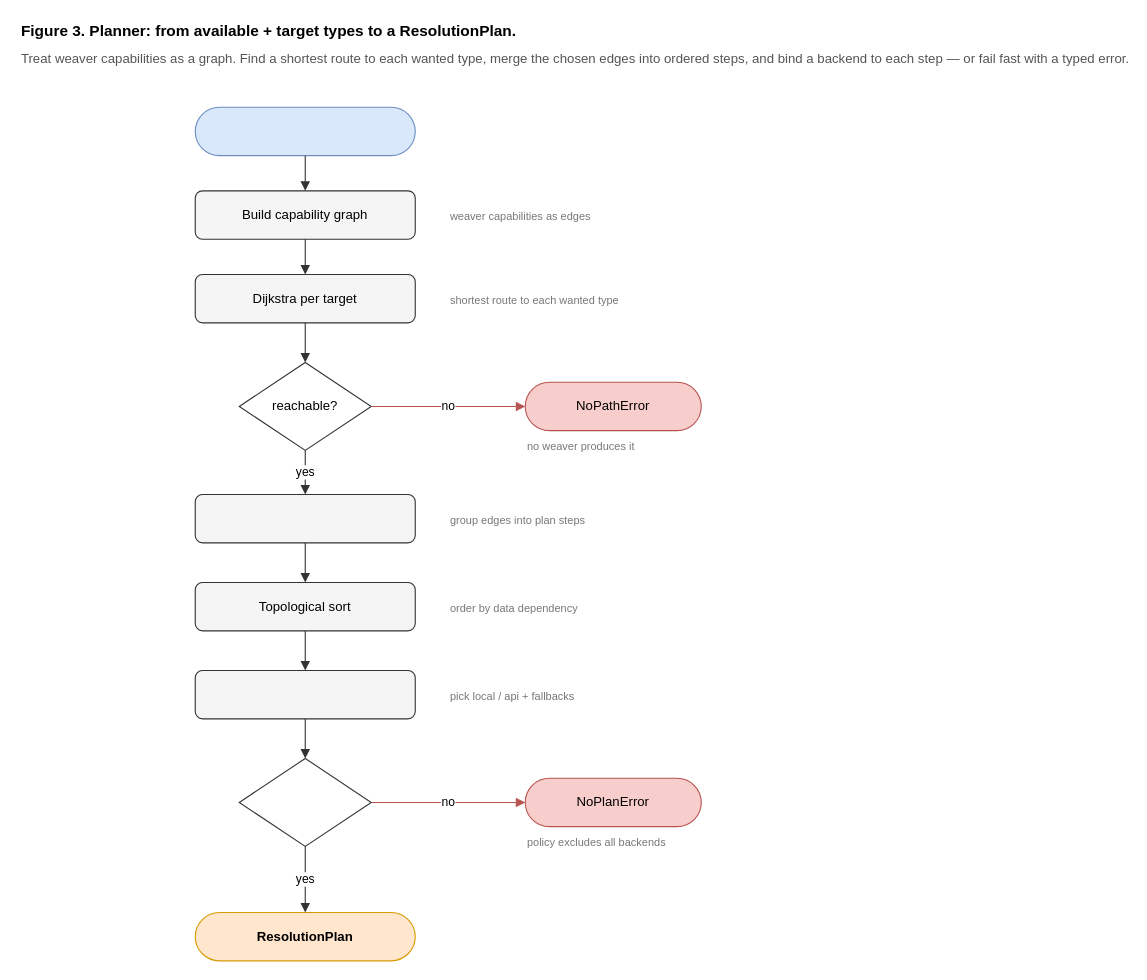
Some shapes in this 1147 by 980 pixel diagram are drawn without their labels. The centre of each missing label's shape, as x and y in pixels:
"Assign backend" goes at pixel 304 694.
"available, target types" goes at pixel 304 131.
"backend available?" goes at pixel 304 801.
"Coalesce edges" goes at pixel 304 518.
